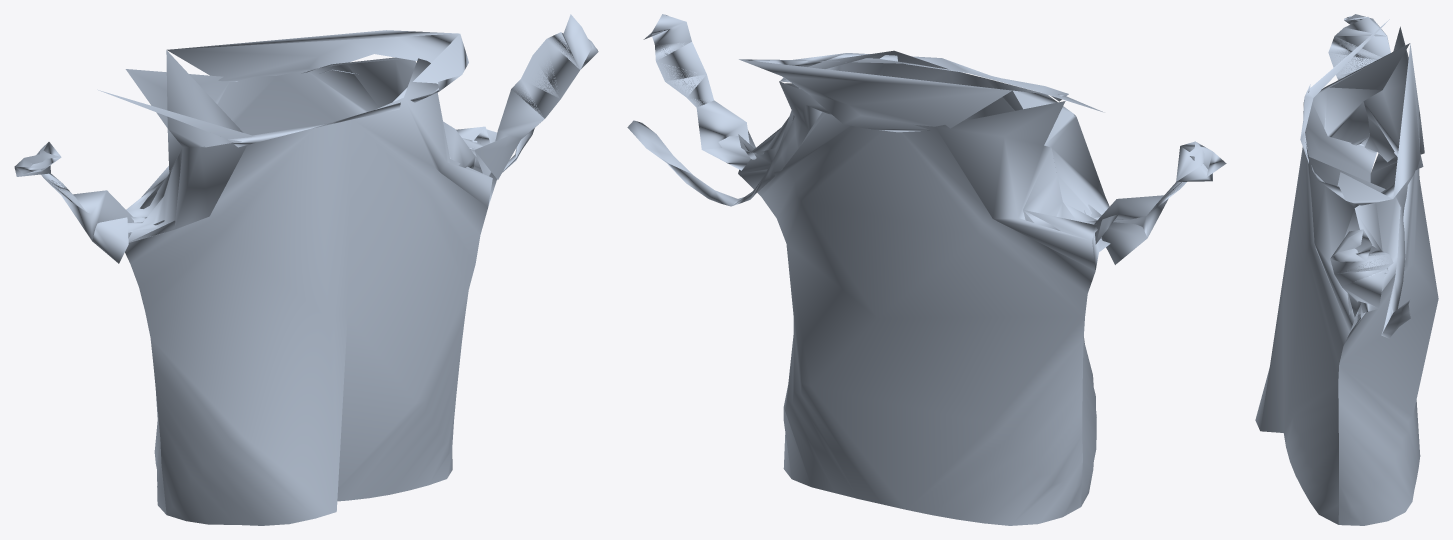
Rendered from frame_034.glb.
The picture shows the model from 3 angles, left to right: view 1: azimuth 30°, elevation 25°; view 2: azimuth 150°, elevation 25°; view 3: azimuth 270°, elevation 25°; orthographic projection. The views are drawn at different scales.
Visible parts, largest first — view 1: panel.front, panel.back, panel.neck_band, panel.sleeve.right, panel.sleeve.left; view 2: panel.back, panel.neck_band, panel.front, panel.sleeve.right, panel.sleeve.left; view 3: panel.front, panel.back, panel.neck_band, panel.sleeve.right, panel.sleeve.left.
Boxes of the visible parts, x1,y1,x2,y2 form: panel.front: [125, 50, 492, 525]; panel.back: [125, 59, 496, 514]; panel.neck_band: [97, 30, 534, 172]; panel.sleeve.right: [475, 14, 598, 179]; panel.sleeve.left: [14, 142, 133, 263]; panel.back: [738, 83, 1101, 525]; panel.neck_band: [627, 53, 1104, 206]; panel.front: [780, 50, 1110, 506]; panel.sleeve.right: [643, 14, 755, 170]; panel.sleeve.left: [1094, 141, 1226, 264]; panel.front: [1255, 43, 1409, 524]; panel.back: [1338, 26, 1438, 525]; panel.neck_band: [1300, 19, 1423, 338]; panel.sleeve.right: [1330, 229, 1393, 317]; panel.sleeve.left: [1328, 14, 1390, 143].
Size of the model in its own units: 1.05 by 0.7827 by 0.3411.
